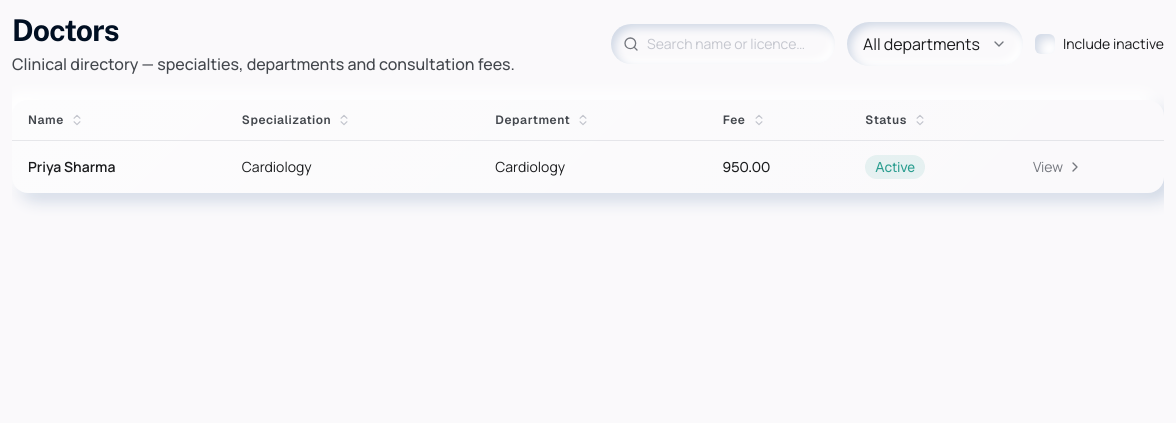
Scenario: inactive doctors in the directory › keeps the search and the department filter working alongside it
Click the checkbox named "Include inactive" at (1045, 44), box [1035,34,1055,54]
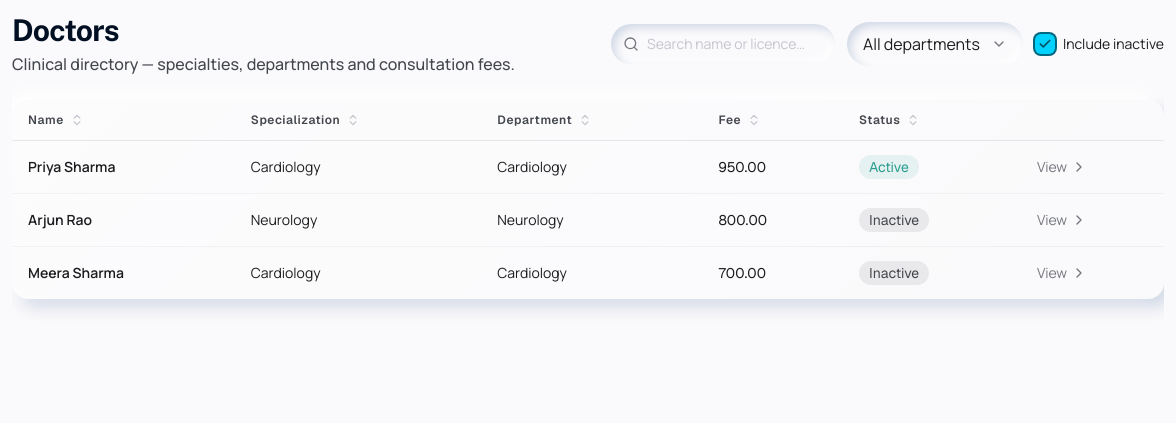
Type "sharma" into the field named "Search doctors" at (723, 44), box [611,24,835,64]
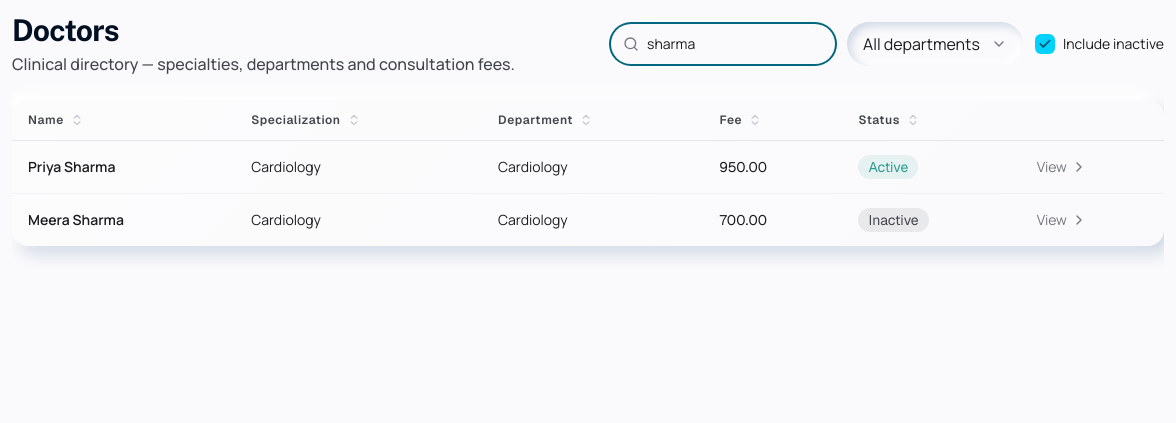
expect the row "Priya Sharma Cardiology Cardiology 950.00 active View" is shown: met, box [12,140,1164,194]
expect the row "Meera Sharma Cardiology Cardiology 700.00 inactive View" is shown: met, box [12,194,1164,246]
expect the text "Arjun Rao" is gone: met
Clear the field named "Search doctors" at (723, 44), box [611,24,835,64]
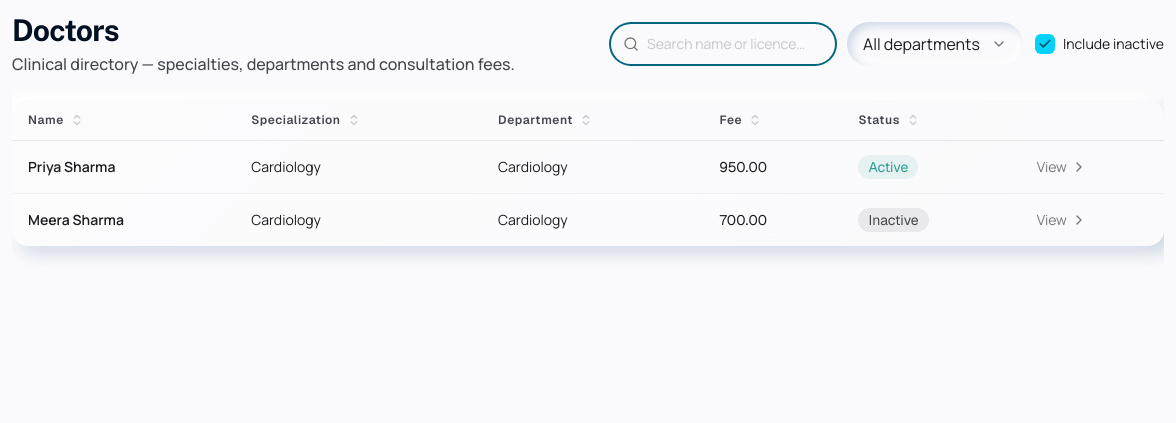
Click the dropdown named "Filter by department" at (935, 44), box [847,22,1023,66]
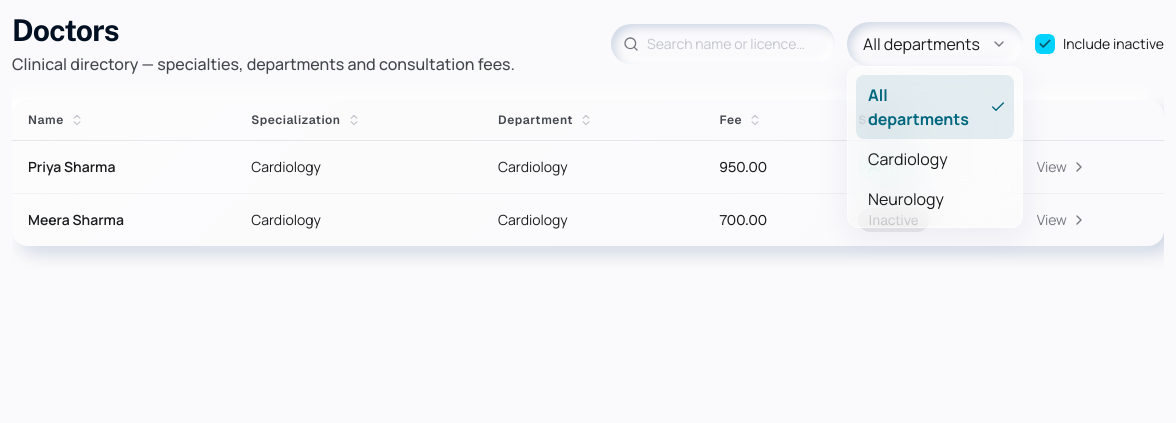
Click the option "Neurology" at (906, 199), box [868,188,944,210]
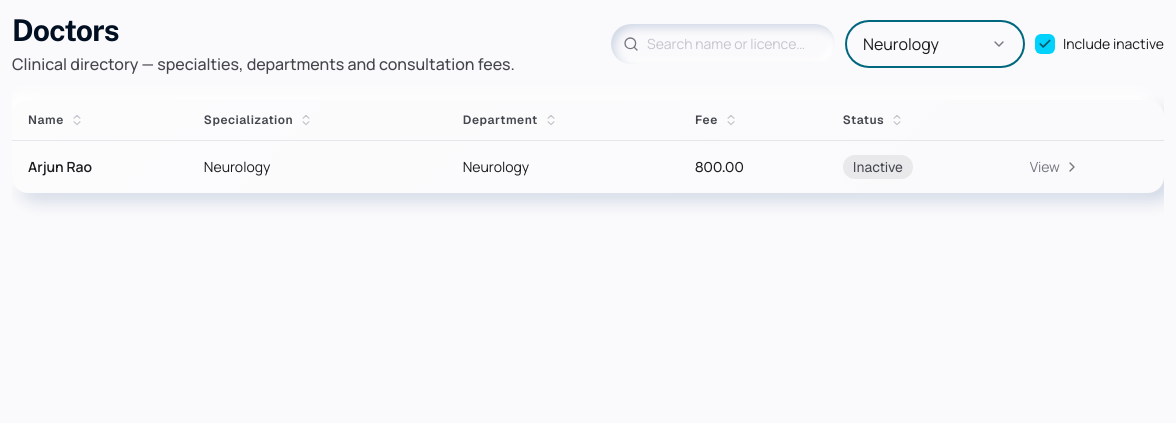
expect the row "Arjun Rao Neurology Neurology 800.00 inactive View" is shown: met, box [12,140,1164,193]
expect the text "Priya Sharma" is gone: met
# Turning it off narrows the same filtered list back to active doctors.
Click the checkbox named "Include inactive" at (1045, 44), box [1035,34,1055,54]
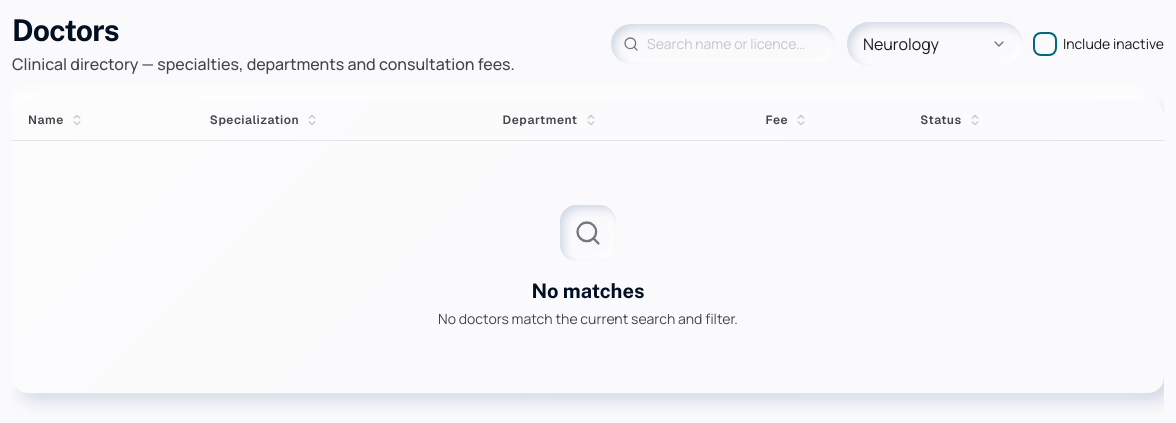
expect the text "No matches" is shown: met, box [532,279,644,303]
